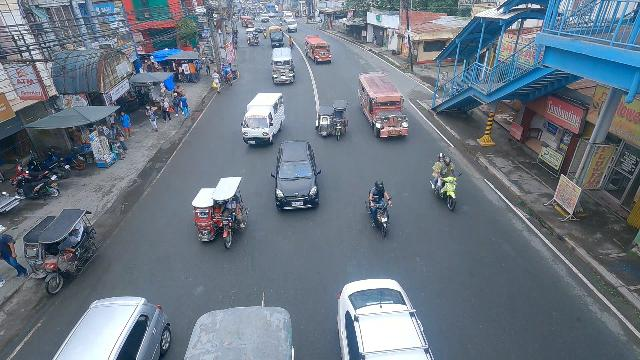bus: (266, 4, 276, 17)
car: (45, 293, 173, 360), (333, 278, 437, 360), (271, 140, 322, 213), (253, 23, 263, 32), (260, 14, 269, 23)
jeepney: (356, 70, 410, 139), (271, 47, 296, 86), (304, 35, 332, 64), (240, 15, 253, 27)
motorcycle: (430, 157, 462, 212), (365, 181, 394, 238), (288, 36, 294, 49), (263, 27, 267, 38), (280, 17, 283, 25)
truck: (269, 26, 285, 48)
van: (239, 91, 285, 147), (285, 18, 298, 33), (283, 10, 293, 19)
